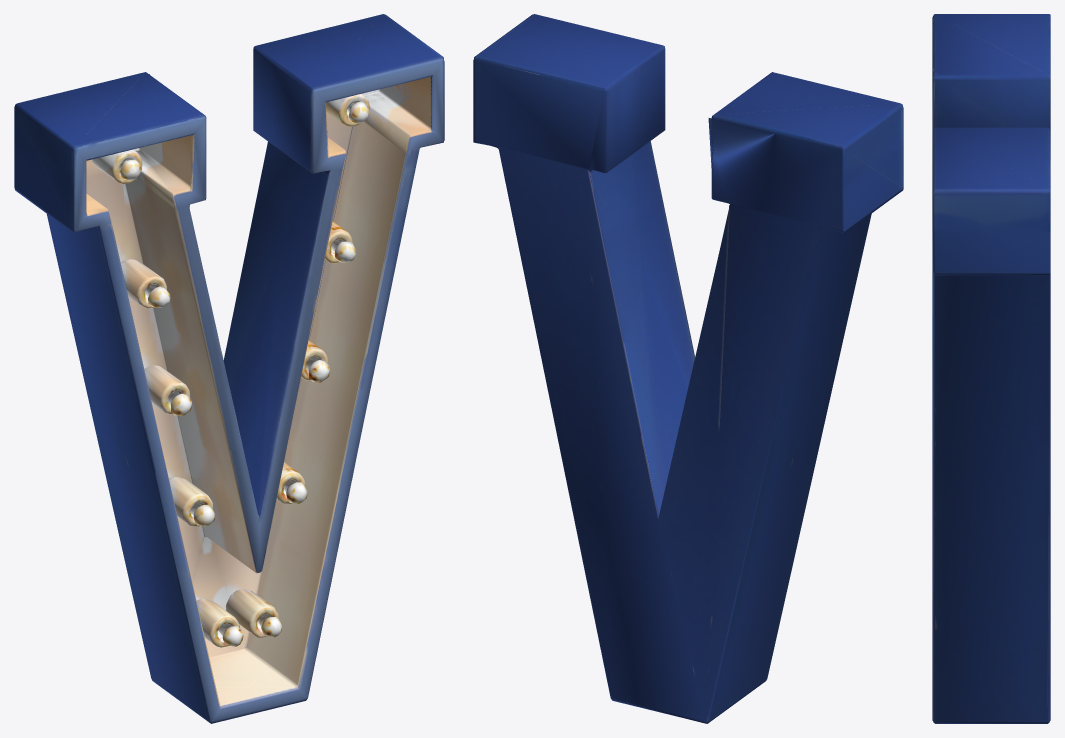
The model's file is Letter_v.glb.
3 renders of one model, left to right at view 1: azimuth 30°, elevation 25°; view 2: azimuth 150°, elevation 25°; view 3: azimuth 270°, elevation 25°, orthographic.
Visible parts, largest first — view 1: Mesh_0.001; view 2: Mesh_0.001; view 3: Mesh_0.001.
Part boxes in pixels (x1,y1,x2,y2): Mesh_0.001: (14,14,444,723); Mesh_0.001: (473,14,903,723); Mesh_0.001: (932,14,1050,723).
Size of the model in its own units: 0.5802 by 0.9144 by 0.1634.
Materials: 1 (1 with a texture image).
